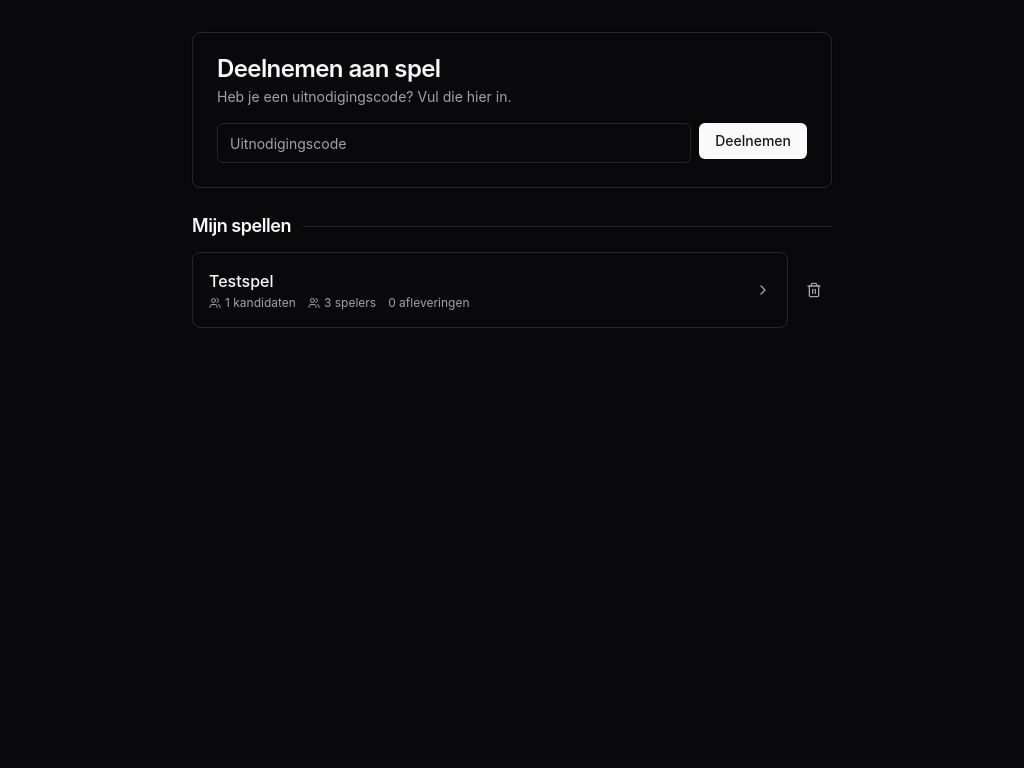
it: HomePage › deletes game and removes it from list on confirmation
Expected: the text "Testspel" is shown, [209,271,274,291]
Click the button named "spel verwijderen": (814, 290) [796,272,832,308]
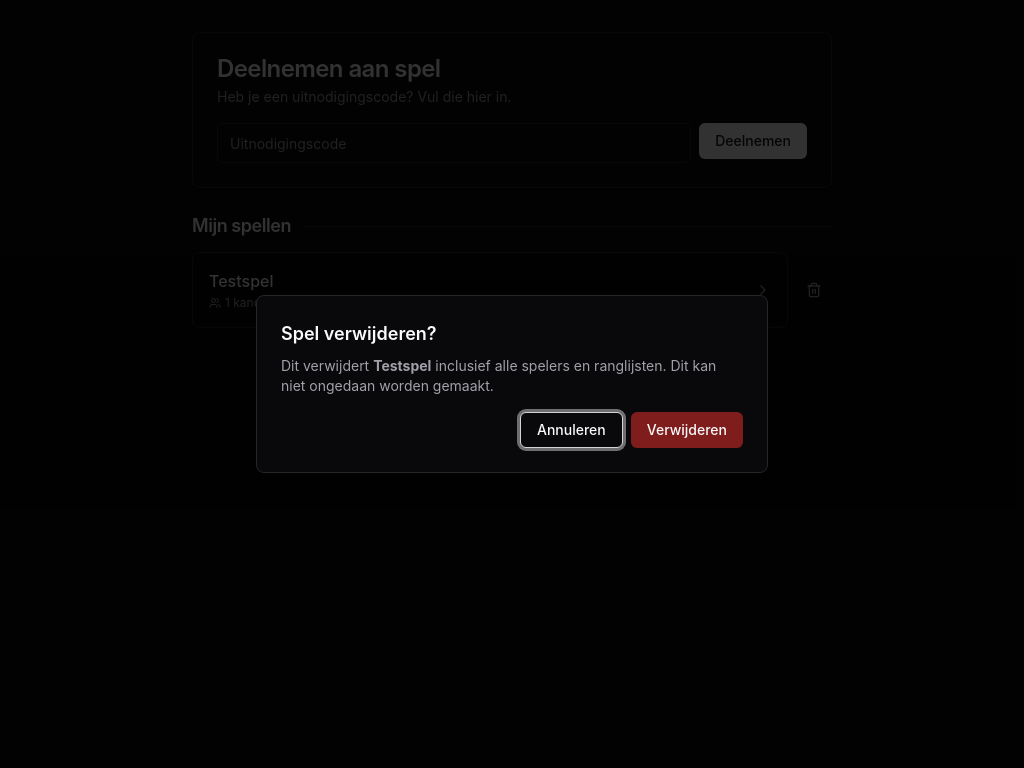
Click the button "Verwijderen": (687, 430) [631,412,743,448]
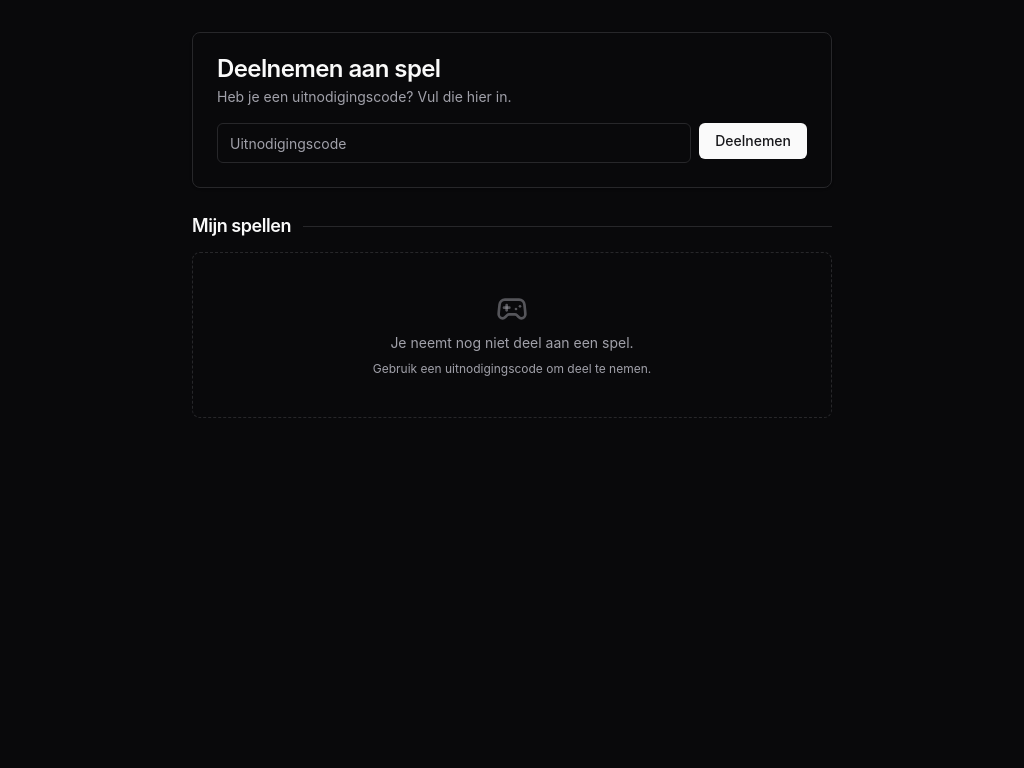
Expected: the button "Testspel" is gone
